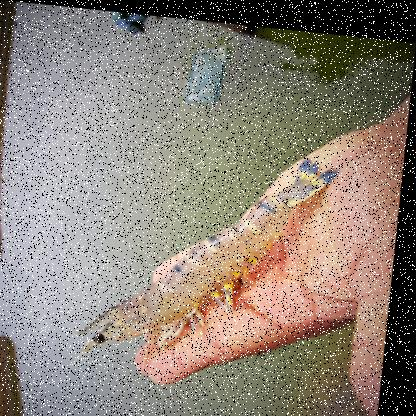shrimp: (79, 135, 341, 377)
